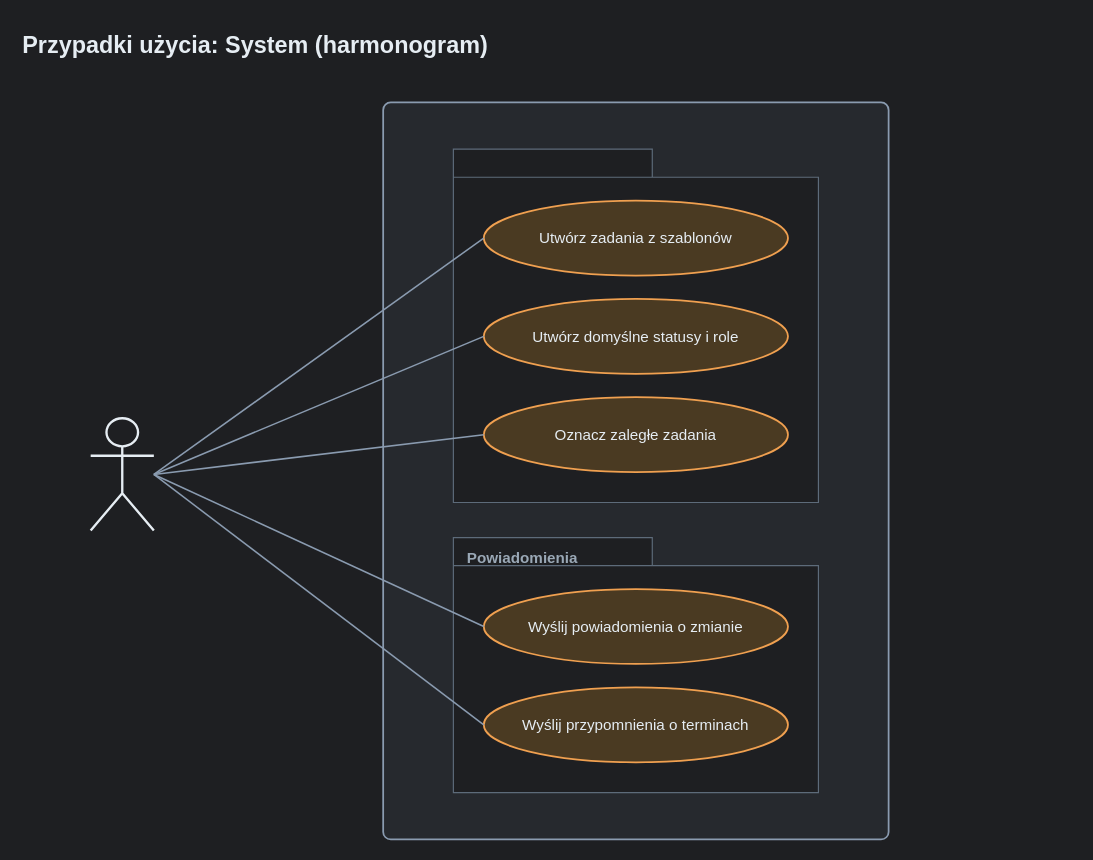
Some shapes in this 1093 by 860 pixel diagram are drawn without their labels. The shapes that lost their labels are listed below. From the top down, each one's box as (x1, y1, x2, y2) in pixels, then its label:
(452, 148, 818, 503): Automatyzacja
(89, 417, 154, 531): System (harmonogram)
